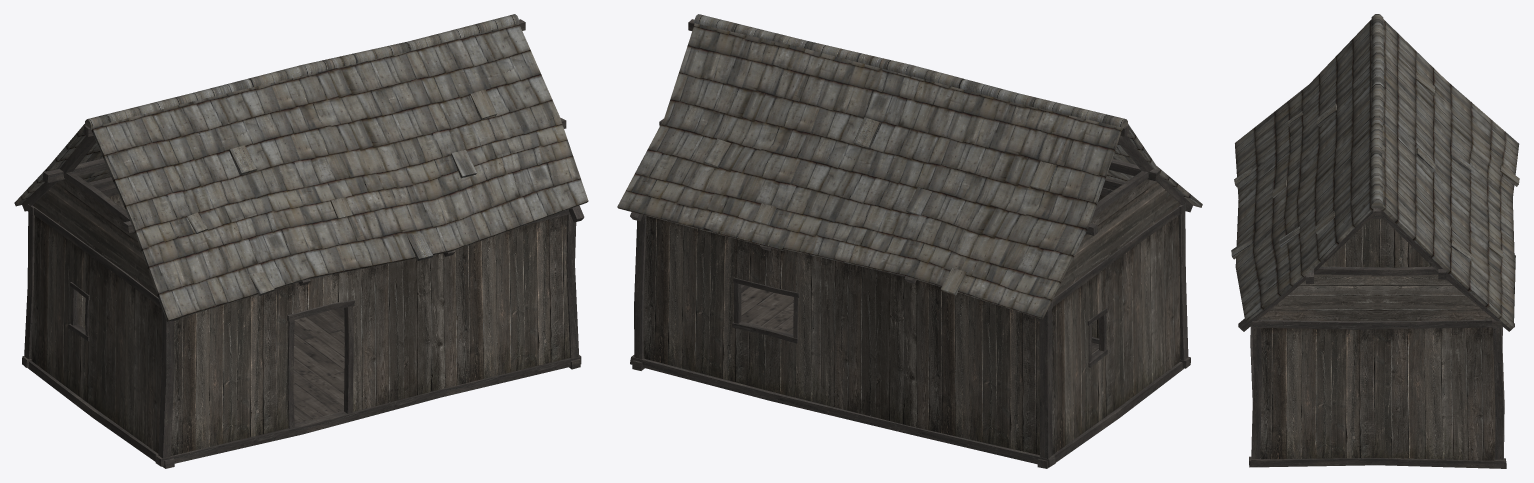
The model's file is hut.obj.
3 views of the same model, side by side, from view 1: azimuth 30°, elevation 25°; view 2: azimuth 150°, elevation 25°; view 3: azimuth 270°, elevation 25° (orthographic). The views are drawn at different scales.
Visible parts, largest first — view 1: Hut01; view 2: Hut01; view 3: Hut01.
Part boxes in pixels (x1,y1,x2,y2): Hut01: (14, 14, 588, 468); Hut01: (617, 14, 1202, 468); Hut01: (1231, 14, 1519, 468).
Bounding box in the file's own units: 4.96 × 3.21 × 3.08.
4 materials, 4 textured.
